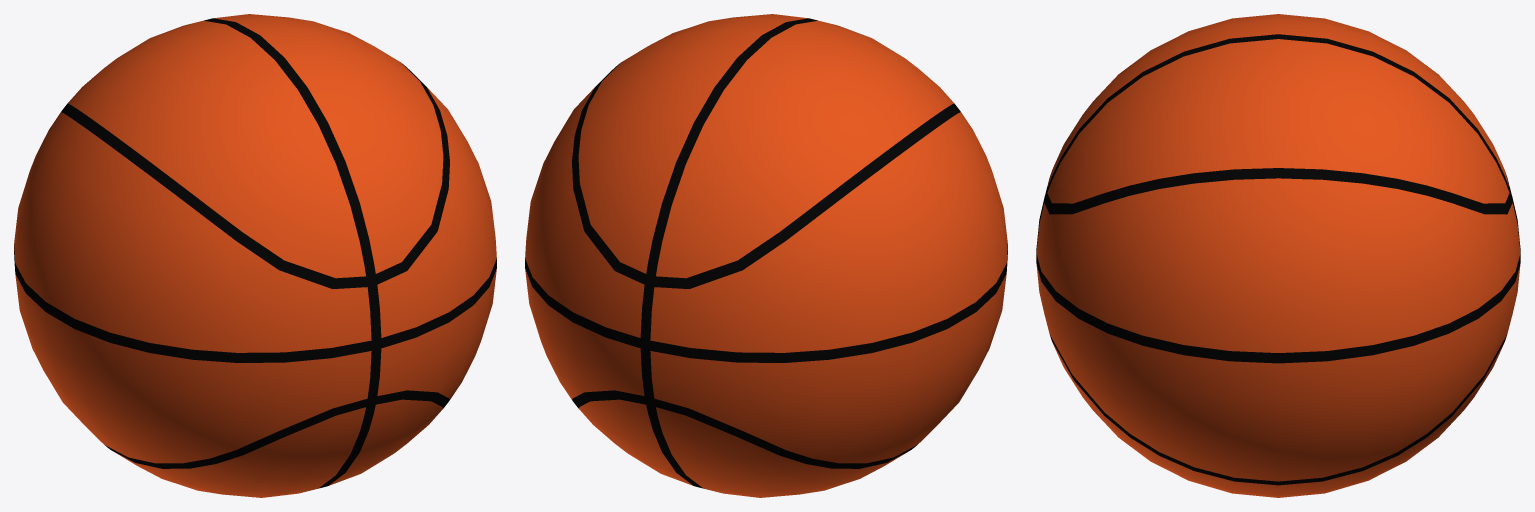
3 renders of one model, left to right at view 1: azimuth 30°, elevation 25°; view 2: azimuth 150°, elevation 25°; view 3: azimuth 270°, elevation 25°, orthographic.
Visible parts, largest first — view 1: Basketball_2; view 2: Basketball_2; view 3: Basketball_2.
Boxes of the visible parts, <box> form: Basketball_2: <box>14,14,496,497</box>; Basketball_2: <box>525,14,1007,497</box>; Basketball_2: <box>1036,14,1520,497</box>.
Bounding box in the file's own units: 2 × 2 × 2.
